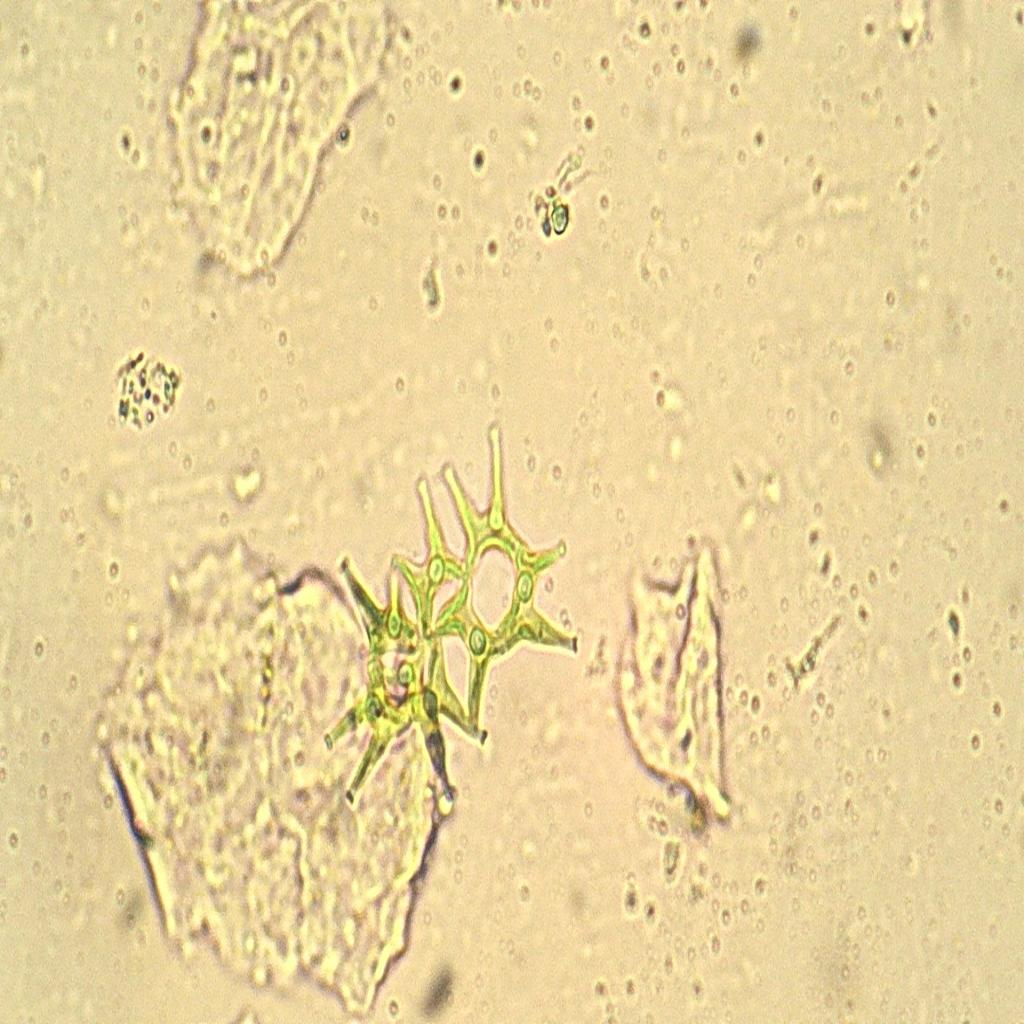Pediastrum_CFI: (314, 414, 590, 811)
